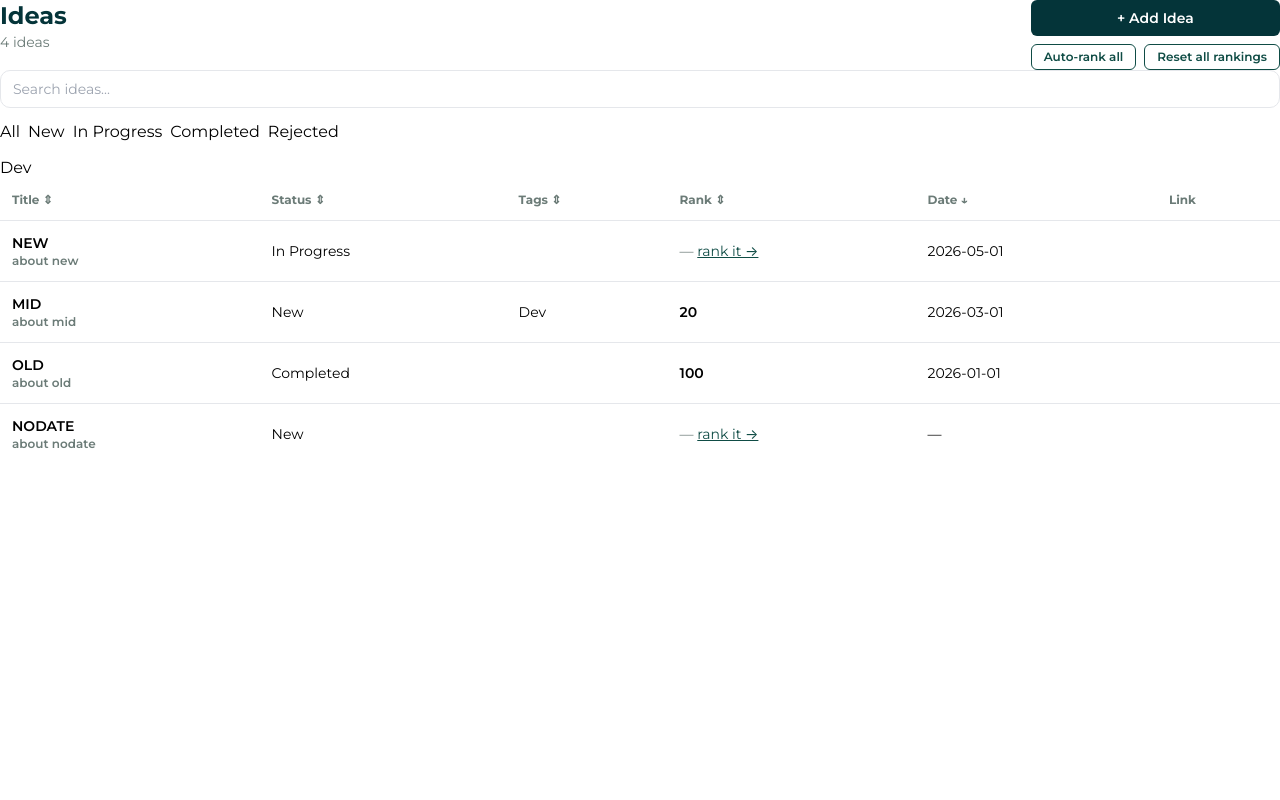
Add Idea › parseIdea -> preview with slug -> createIdea -> navigates
This screenshot has width=1280, height=800.
Expected: the row with test id "row-old" is shown, top-left (0, 342), bottom-right (1279, 404)
Click the button "+ Add Idea": {"x": 1155, "y": 18} top-left (1031, 0), bottom-right (1279, 36)
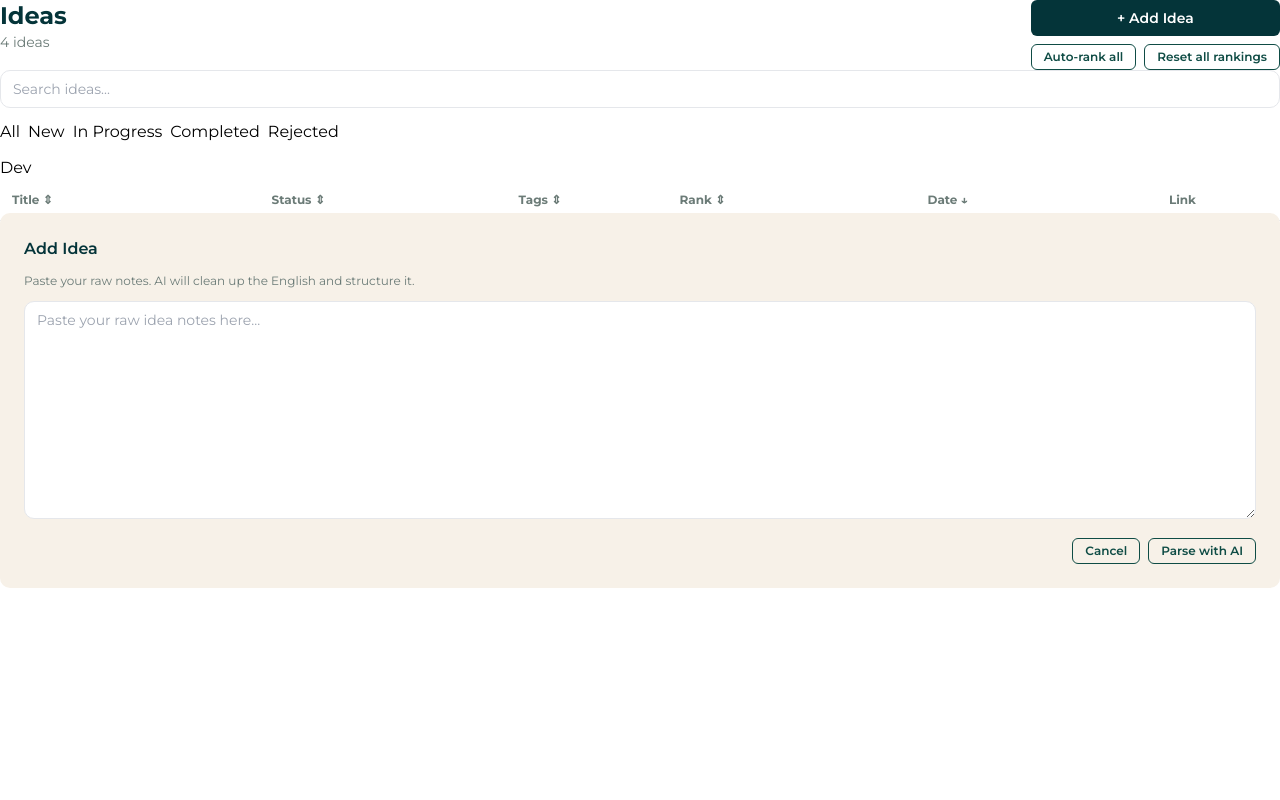
In the text box with placeholder "Paste your raw idea notes here...": {"x": 640, "y": 410} top-left (24, 300), bottom-right (1256, 518), type "raw notes"
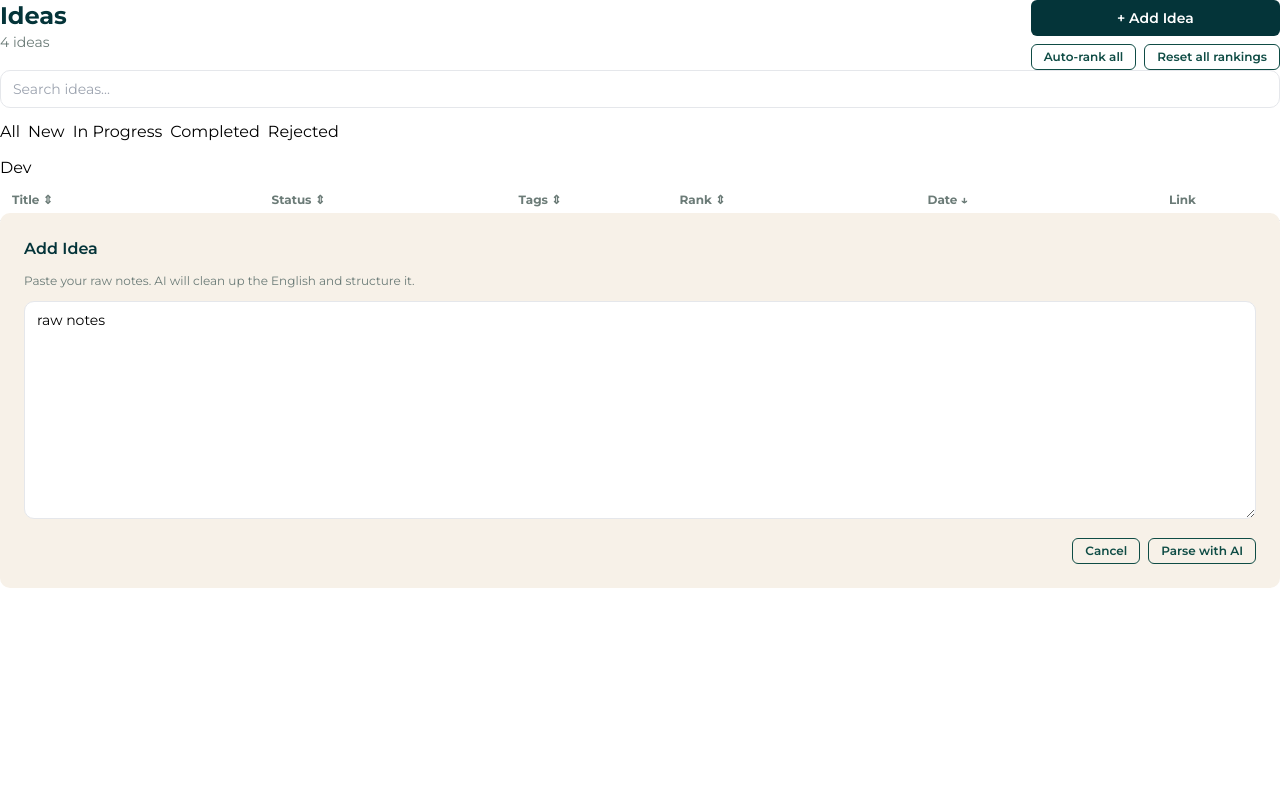
Click the button "Parse with AI": {"x": 1202, "y": 550} top-left (1148, 538), bottom-right (1256, 564)
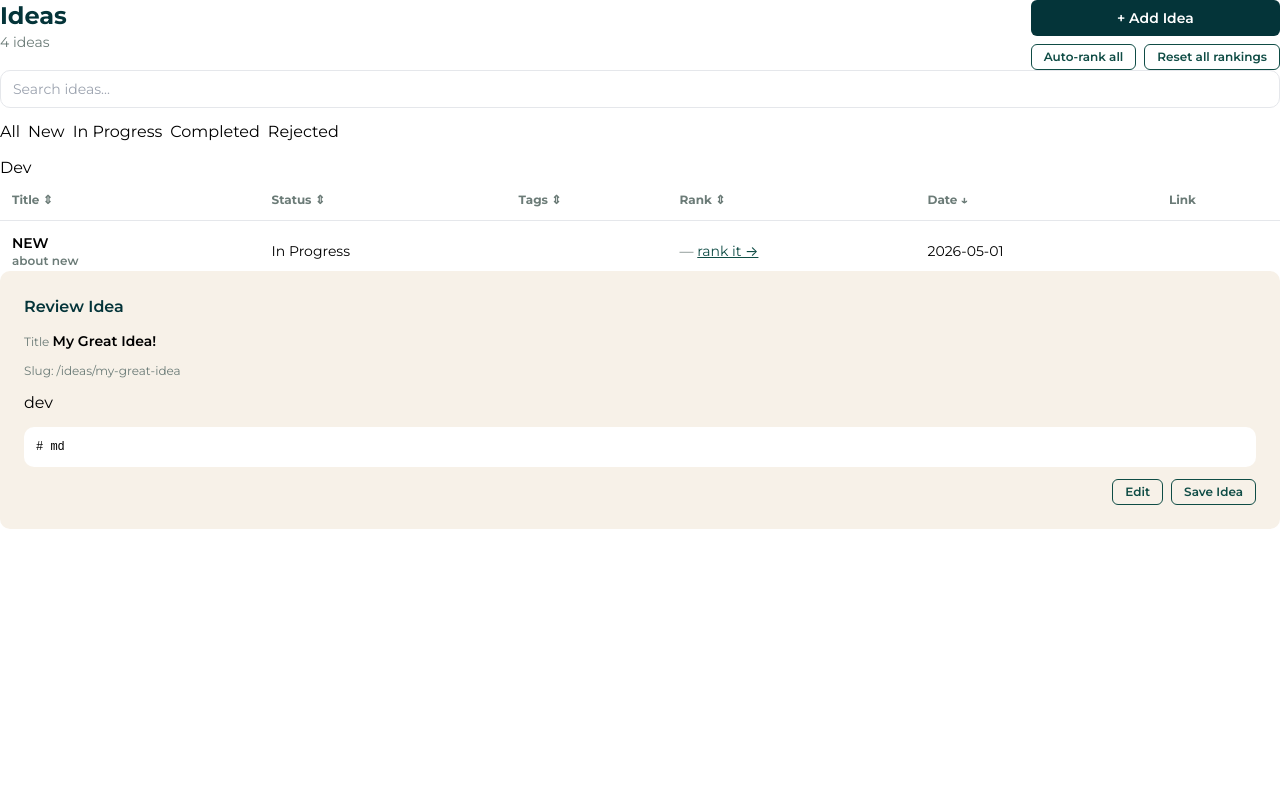
Expected: the text "My Great Idea!" is shown, top-left (52, 332), bottom-right (156, 350)
Expected: the text "/ideas/my-great-idea" is shown, top-left (57, 363), bottom-right (181, 378)
Click the button "Save Idea": {"x": 1214, "y": 492} top-left (1171, 479), bottom-right (1256, 505)
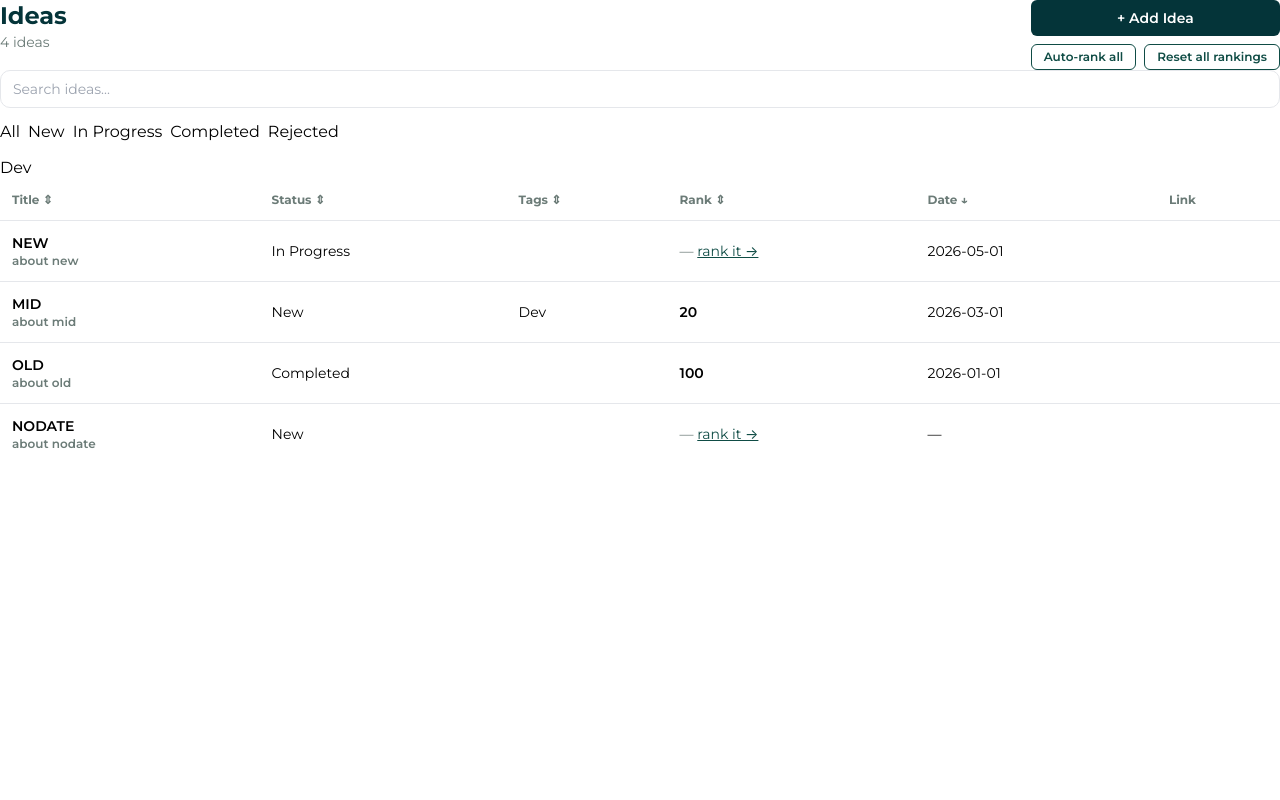
Expected: the dialog is gone
